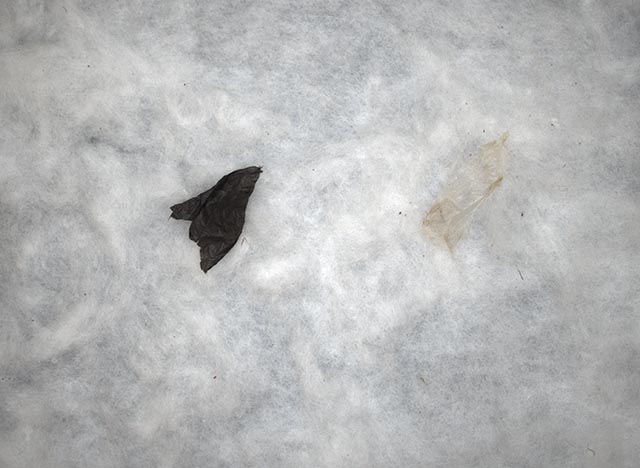plastic film: (419, 130, 511, 261), (169, 165, 264, 276)
